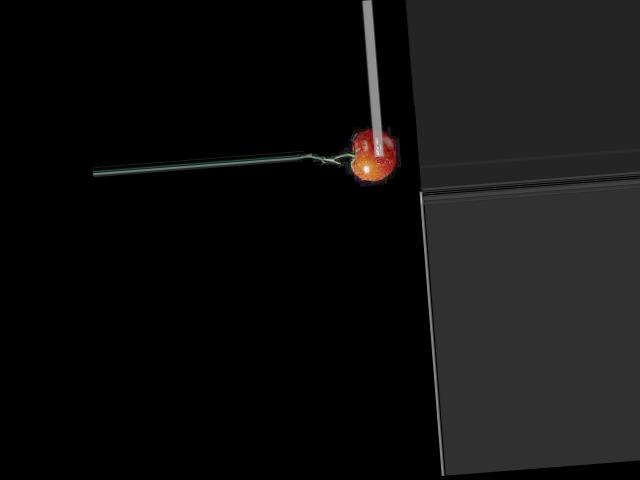tomato: (349, 129, 396, 181)
